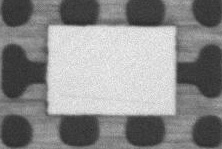DIE_CRACK: (89, 64, 222, 69)
